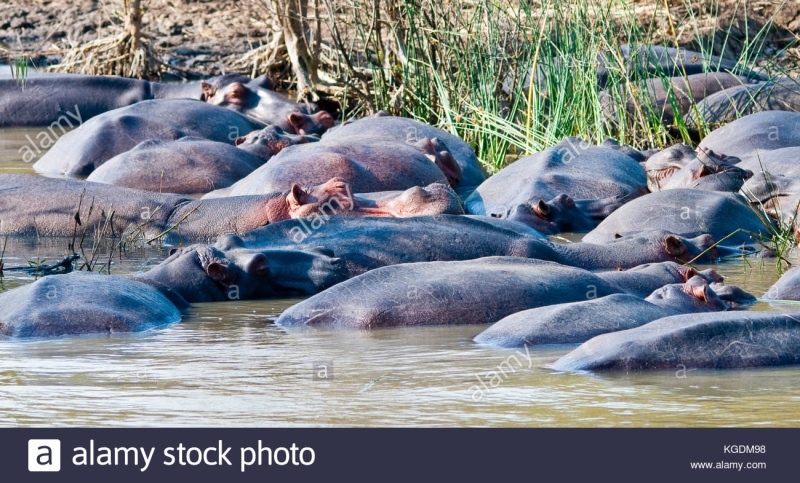hipopotamo: (0, 174, 462, 257), (276, 253, 727, 331), (0, 62, 316, 133), (510, 188, 640, 244)
